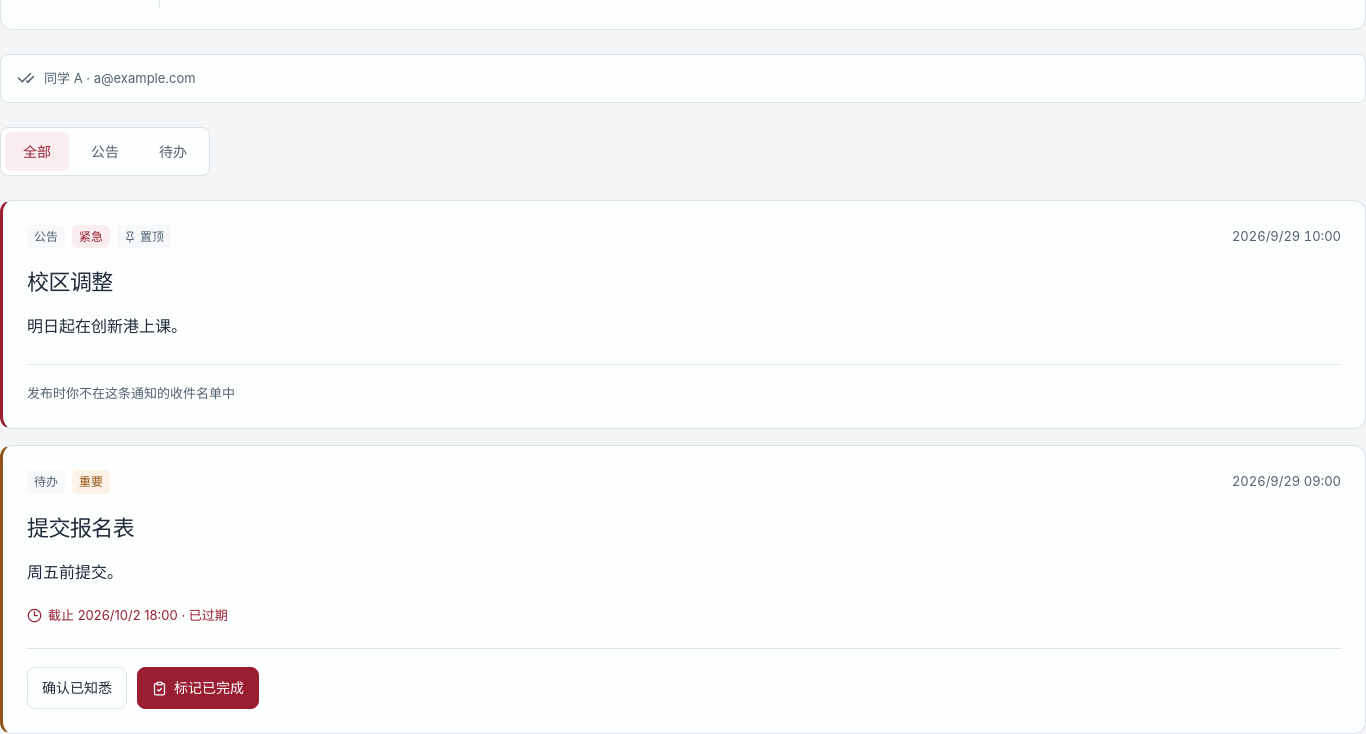
it: opens the required completion upload dialog without saving; cancel preserves the pending task
(page scrolled)
Click the button "标记已完成".
click(198, 688)  # box x1=137 y1=667 x2=259 y2=709
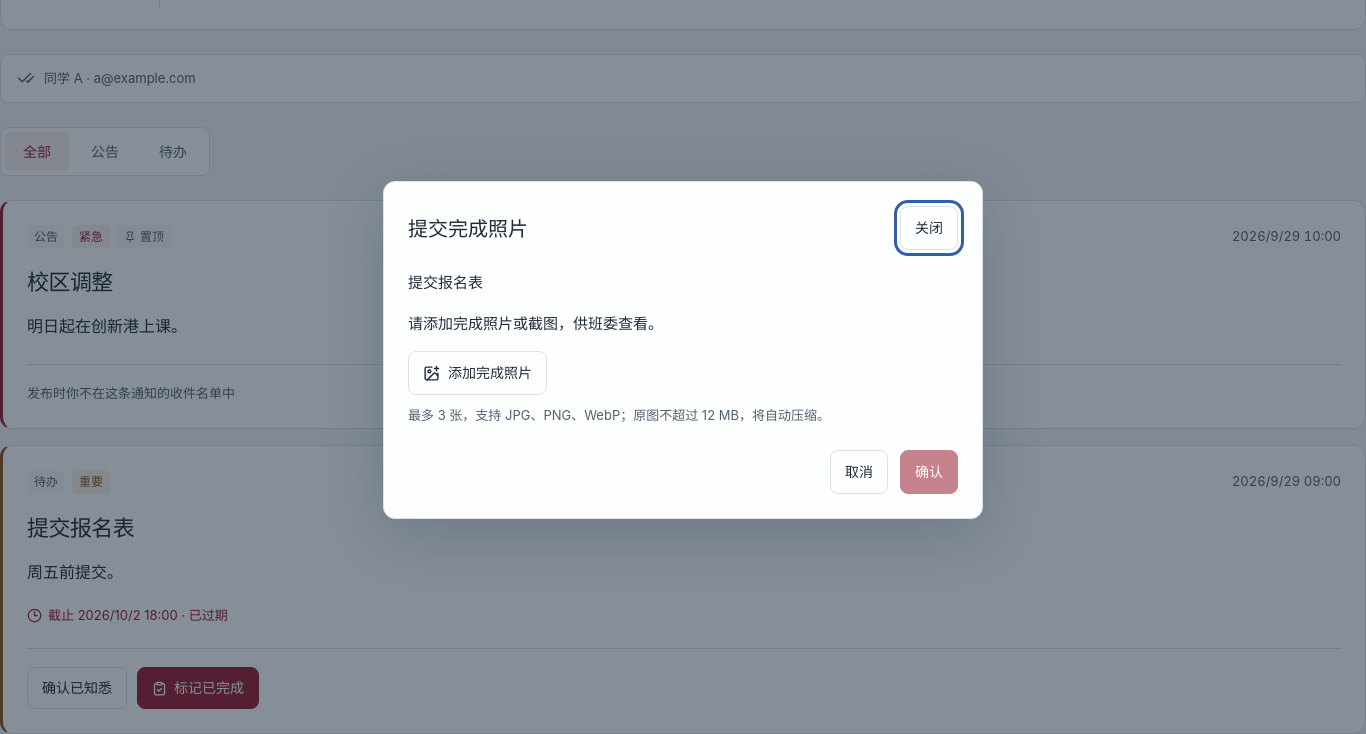
Expected: the element labelled "添加完成照片" is shown, x1=408 y1=351 x2=830 y2=423
Expected: the text "请添加完成照片或截图，供班委查看。" is shown, x1=408 y1=314 x2=663 y2=333
Expected: the button "确认" is disabled, x1=900 y1=450 x2=958 y2=494
Click the button "取消".
click(859, 472)  # box x1=830 y1=450 x2=888 y2=494
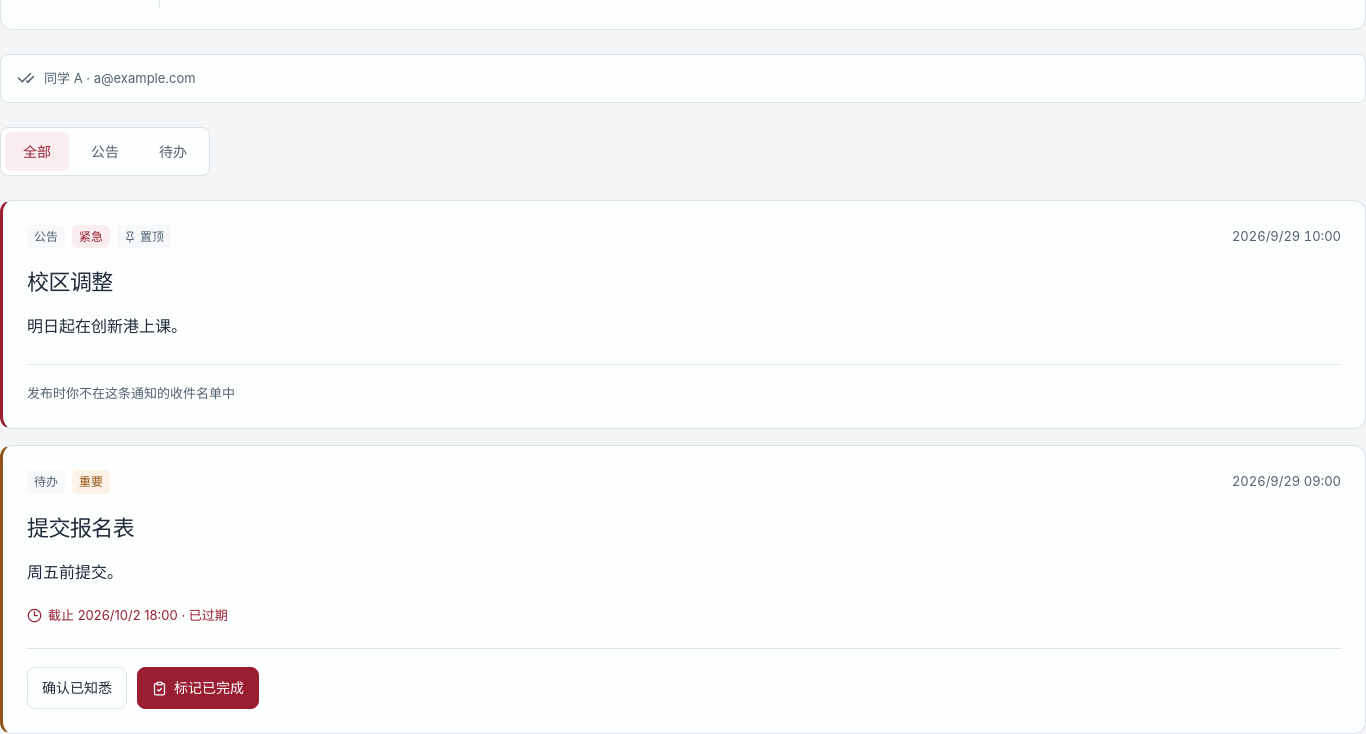
Expected: the dialog is gone
